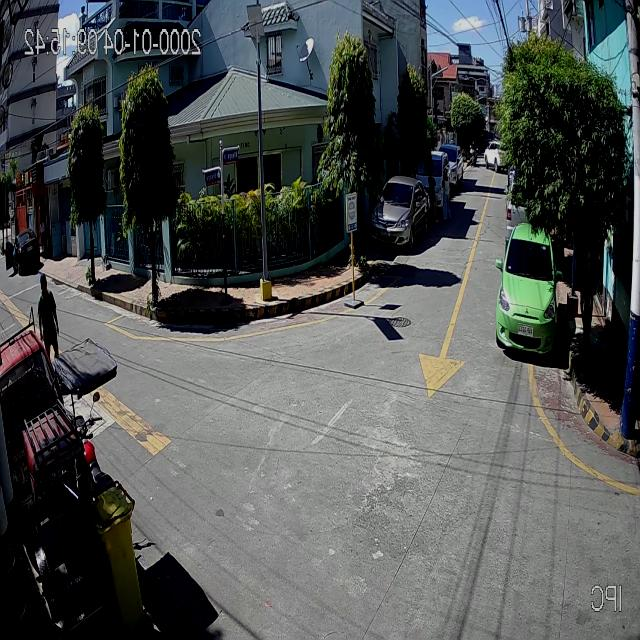walking: (38, 273, 59, 357)
